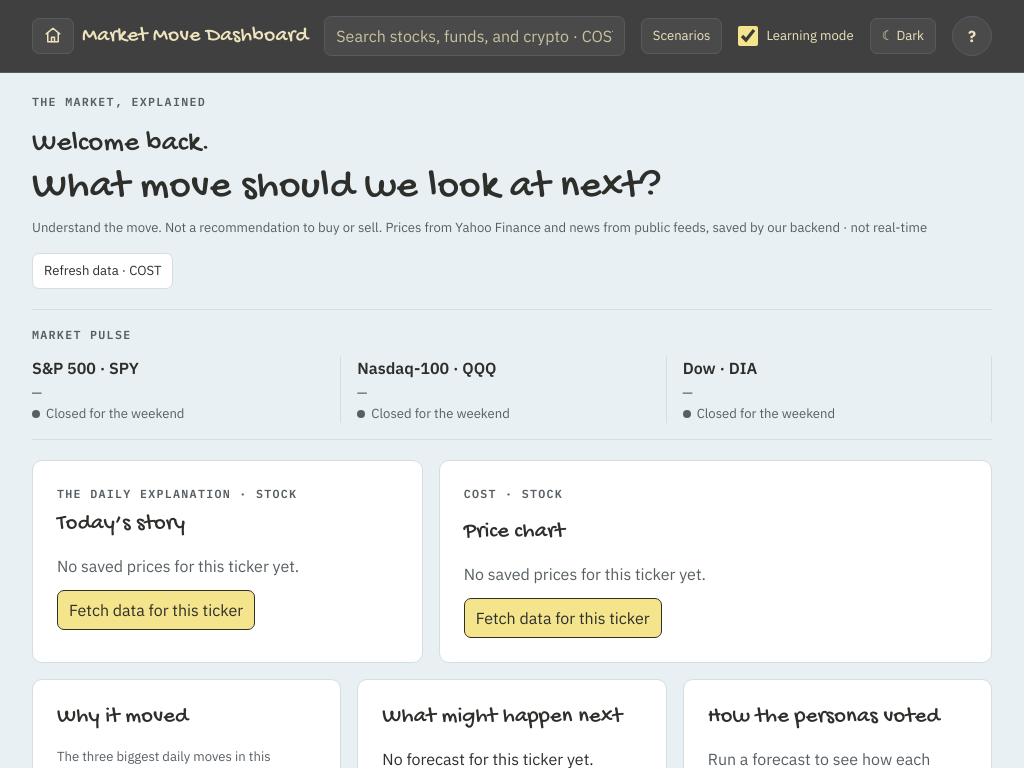
it: a ticker with no saved data › shows why a refresh failed
The image size is (1024, 768).
Click the button "Refresh data · COST": point(103, 271) [32, 253, 173, 289]
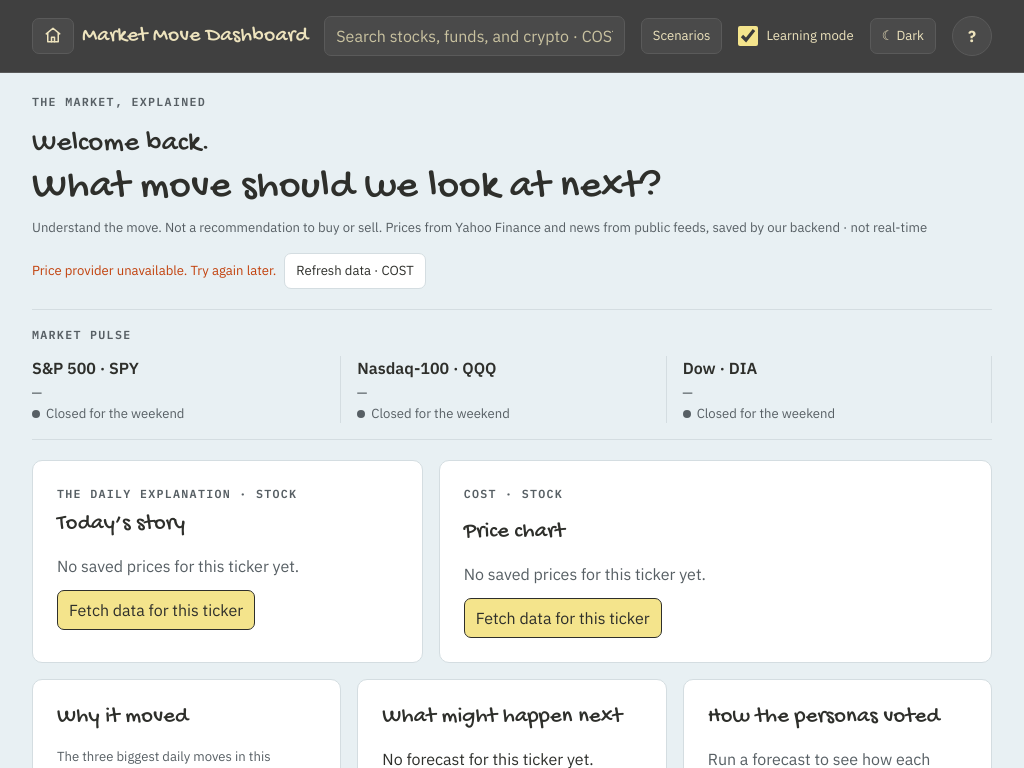
expect the button "Refresh data · COST" is enabled: met, box [284, 253, 426, 289]
expect the text "Price provider unavailable. Try again later." is shown: met, box [32, 262, 276, 279]
